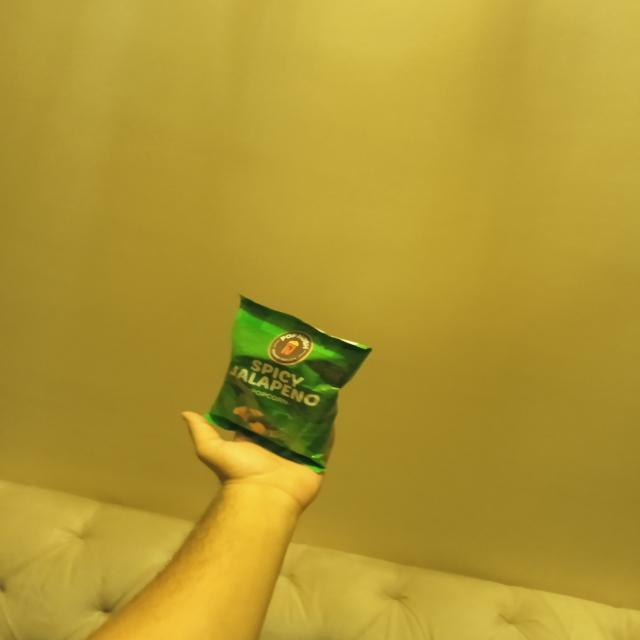Plastic: (203, 300, 369, 468)
